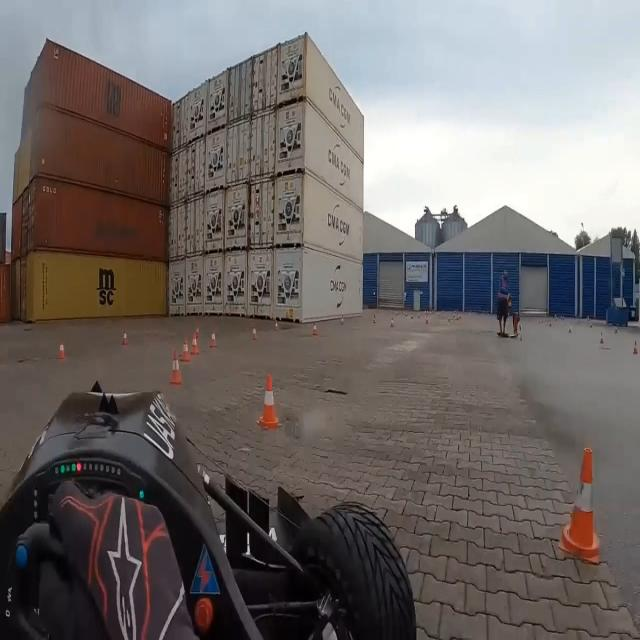Orange cone: (560, 434, 605, 584), (252, 361, 290, 440), (173, 333, 208, 367), (167, 347, 188, 398), (332, 309, 359, 345), (54, 334, 75, 371), (117, 322, 138, 357), (383, 310, 404, 339), (268, 310, 286, 343), (247, 317, 264, 349), (207, 322, 222, 356), (559, 322, 579, 343), (312, 316, 324, 347), (418, 317, 436, 334), (596, 333, 610, 352), (544, 319, 558, 337)
